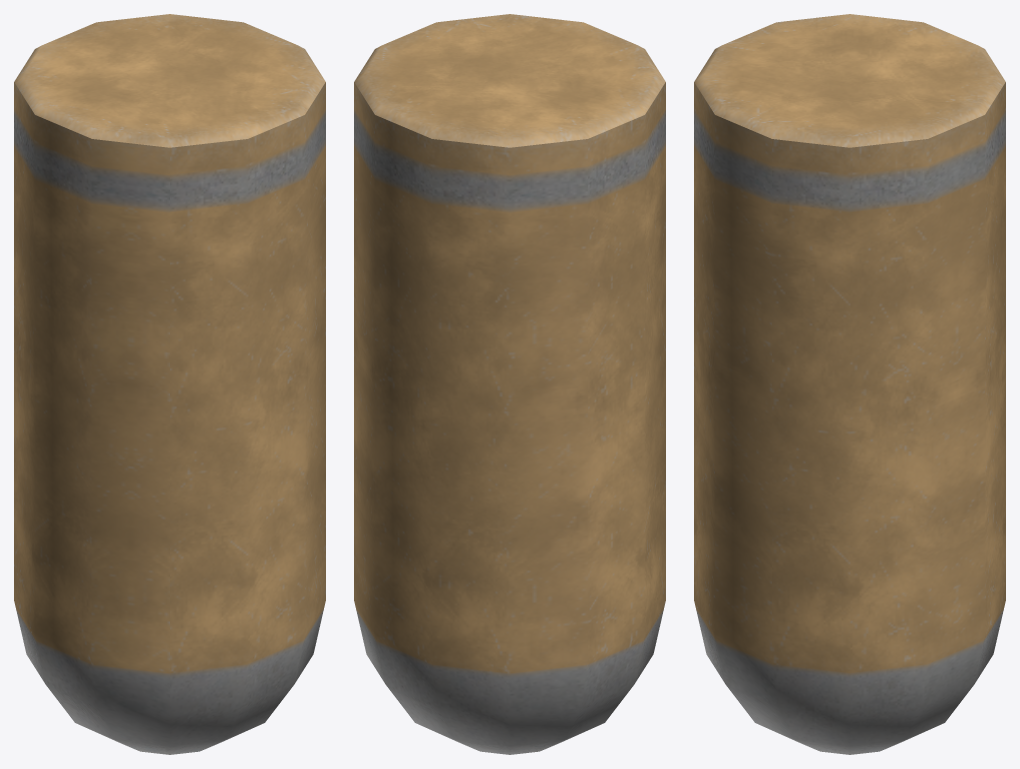
Rendered from BulletTraditional.fbx.
3 renders of one model, left to right at view 1: azimuth 30°, elevation 25°; view 2: azimuth 150°, elevation 25°; view 3: azimuth 270°, elevation 25°, orthographic.
Visible parts, largest first — view 1: Bullet_Traditional; view 2: Bullet_Traditional; view 3: Bullet_Traditional.
Part boxes in pixels (bbox=[...]): Bullet_Traditional: bbox=[14, 14, 325, 754]; Bullet_Traditional: bbox=[354, 14, 665, 754]; Bullet_Traditional: bbox=[694, 14, 1005, 754].
Size of the model in its own units: 0.0692 by 0.1627 by 0.0692.
